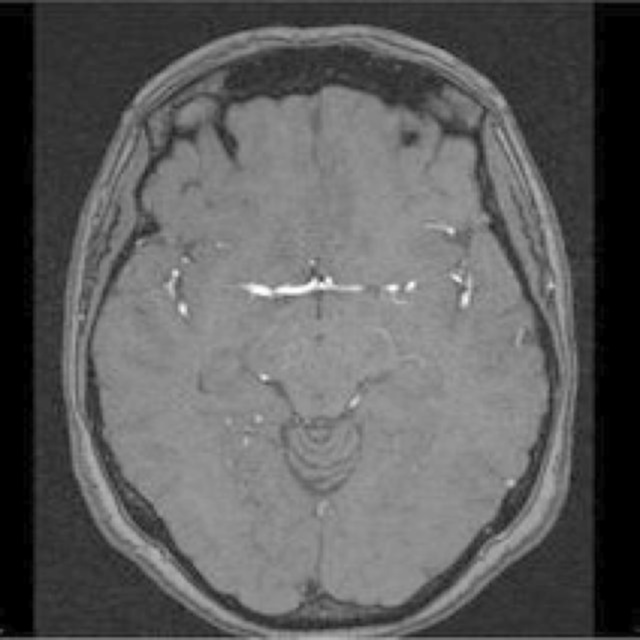glioma tumor: (148, 90, 483, 558)
